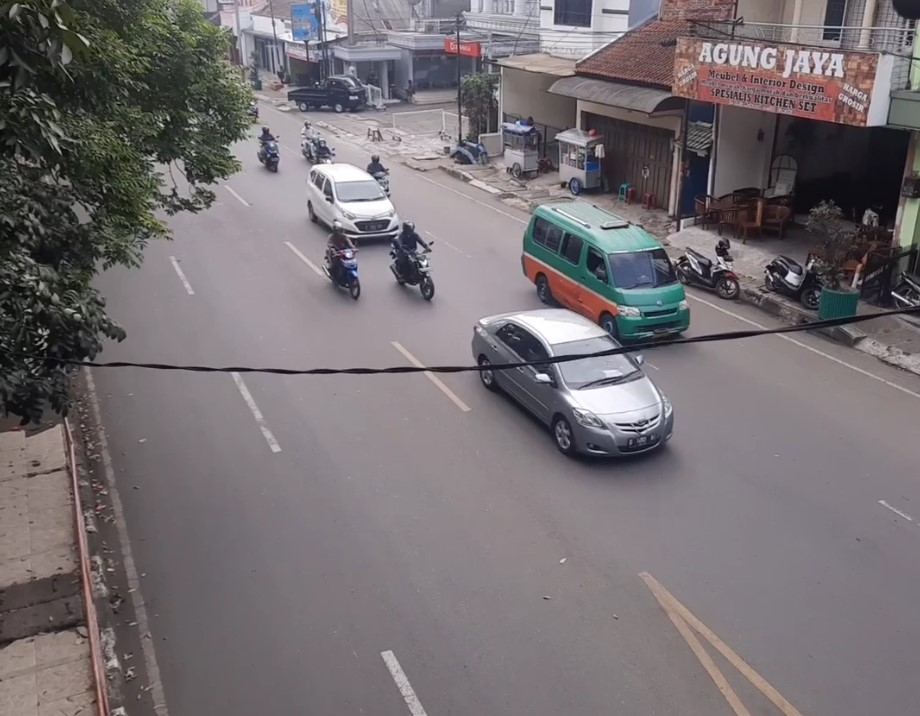mobil: (544, 332, 671, 461), (602, 246, 692, 346), (329, 179, 399, 241)
motor: (386, 229, 437, 302), (318, 218, 362, 299)
